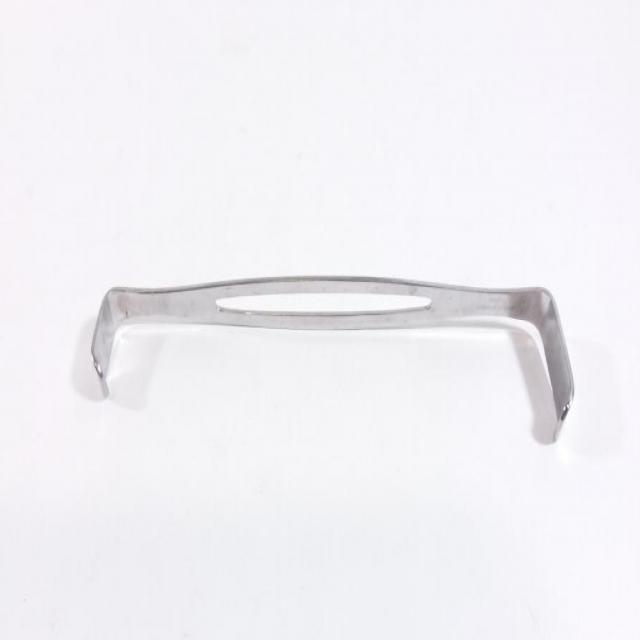Army_navy: (88, 268, 577, 428)
